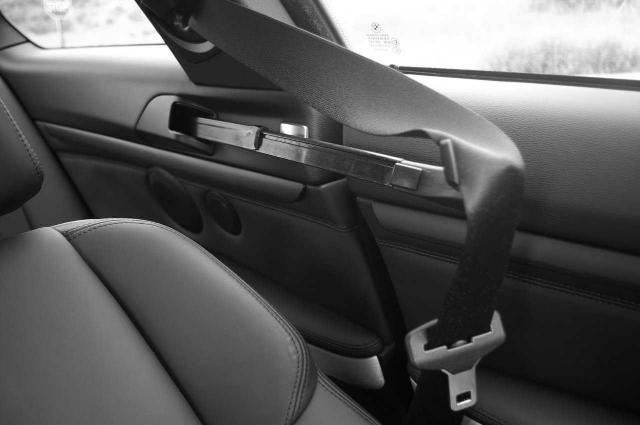Seatbelt: (184, 0, 533, 425)
